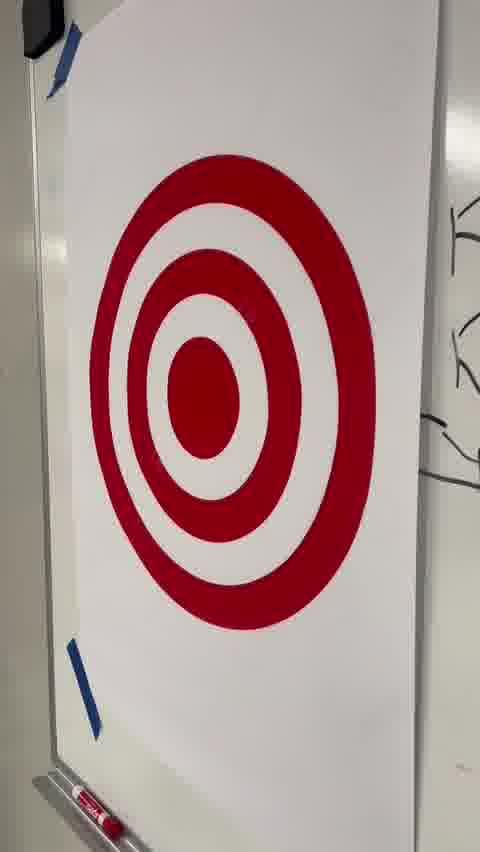target_red: (89, 153, 378, 631)
